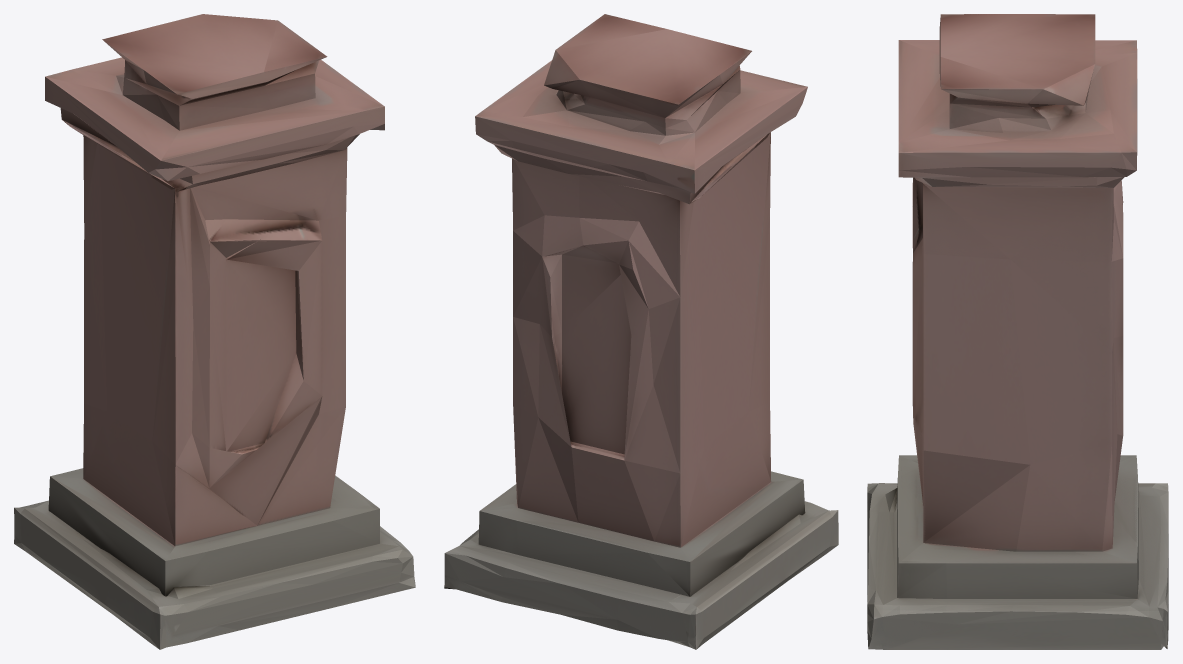
The model's file is Altar_Pillar.fbx.
3 views of the same model, side by side, from view 1: azimuth 30°, elevation 25°; view 2: azimuth 150°, elevation 25°; view 3: azimuth 270°, elevation 25° (orthographic). The views are drawn at different scales.
Parts seen in each view (by area): view 1: Mesh_0; view 2: Mesh_0; view 3: Mesh_0.
Part boxes in pixels (x1,y1,x2,y2): Mesh_0: (14, 14, 415, 649); Mesh_0: (444, 14, 838, 649); Mesh_0: (867, 14, 1168, 649).
Bounding box in the file's own units: 2.26 × 4.5 × 2.23.
1 material, 1 textured.
